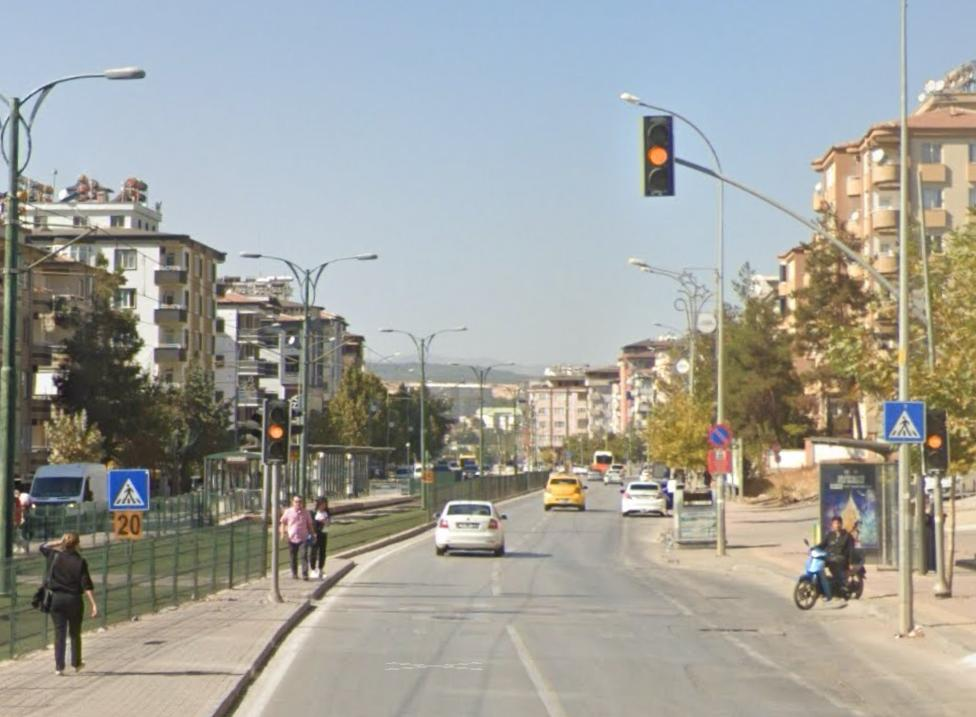nopark: (708, 425, 728, 452)
yellowlight: (641, 115, 675, 194), (266, 400, 289, 462), (929, 411, 950, 470)
